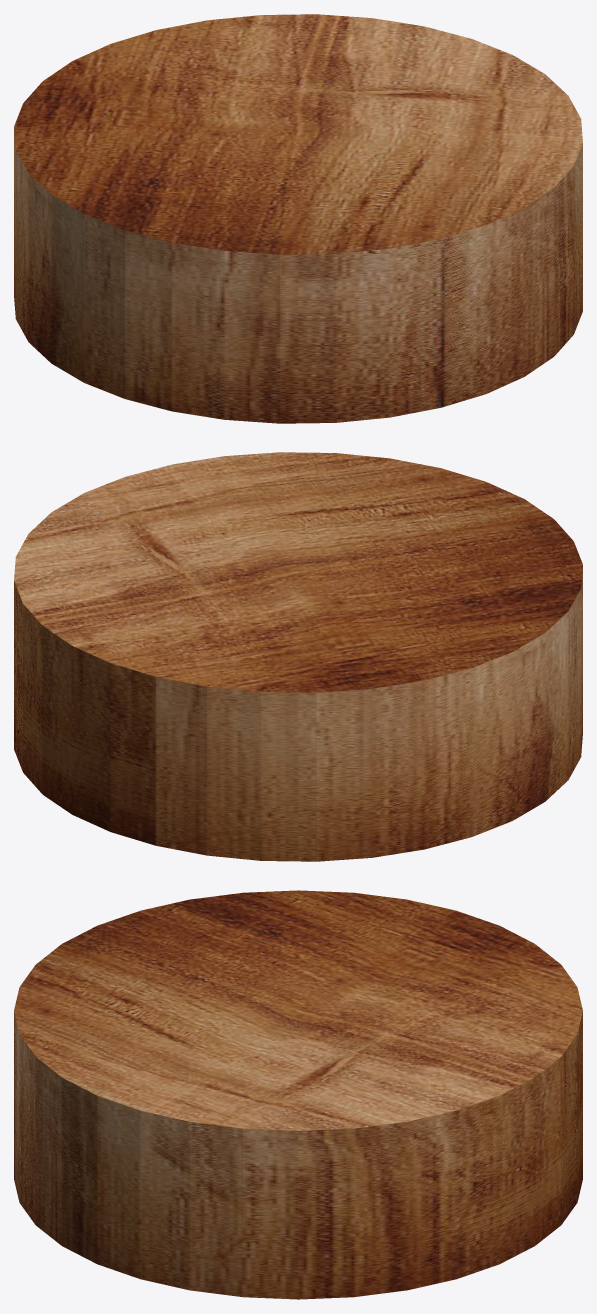
The model's file is Table.fbx.
The picture shows the model from 3 angles, top to bottom: view 1: azimuth 30°, elevation 25°; view 2: azimuth 150°, elevation 25°; view 3: azimuth 270°, elevation 25°; orthographic projection.
Parts seen in each view (by area): view 1: Cylinder; view 2: Cylinder; view 3: Cylinder.
Part boxes in pixels (left/top/right/bottom): Cylinder: left=14, top=14, right=582, bottom=423; Cylinder: left=14, top=452, right=582, bottom=861; Cylinder: left=14, top=890, right=582, bottom=1299.
Bounding box in the file's own units: 306 × 100 × 306.
